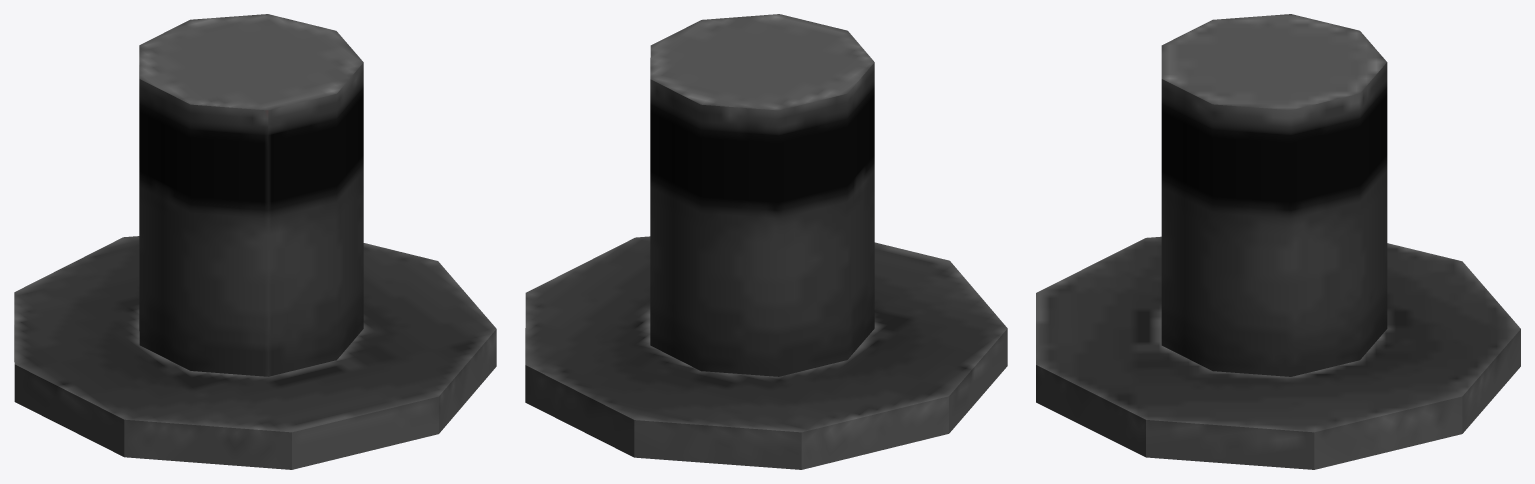
The model's file is WheelFix.fbx.
3 views of the same model, side by side, from view 1: azimuth 30°, elevation 25°; view 2: azimuth 150°, elevation 25°; view 3: azimuth 270°, elevation 25° (orthographic).
Parts seen in each view (by area): view 1: Wheel__1_; view 2: Wheel__1_; view 3: Wheel__1_.
Boxes of the visible parts, bbox=[...] form: Wheel__1_: bbox=[14, 14, 496, 469]; Wheel__1_: bbox=[525, 14, 1007, 469]; Wheel__1_: bbox=[1036, 14, 1520, 469].
Size of the model in its own units: 18.38 by 12.61 by 18.2.
